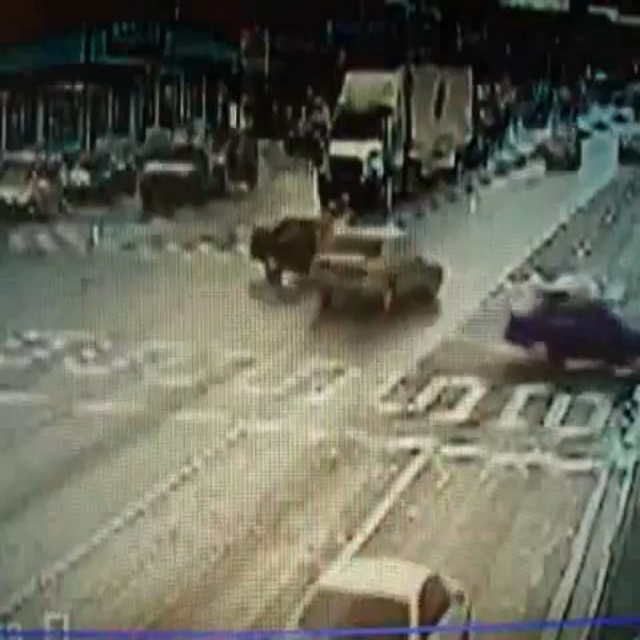acc: (233, 204, 449, 320)
